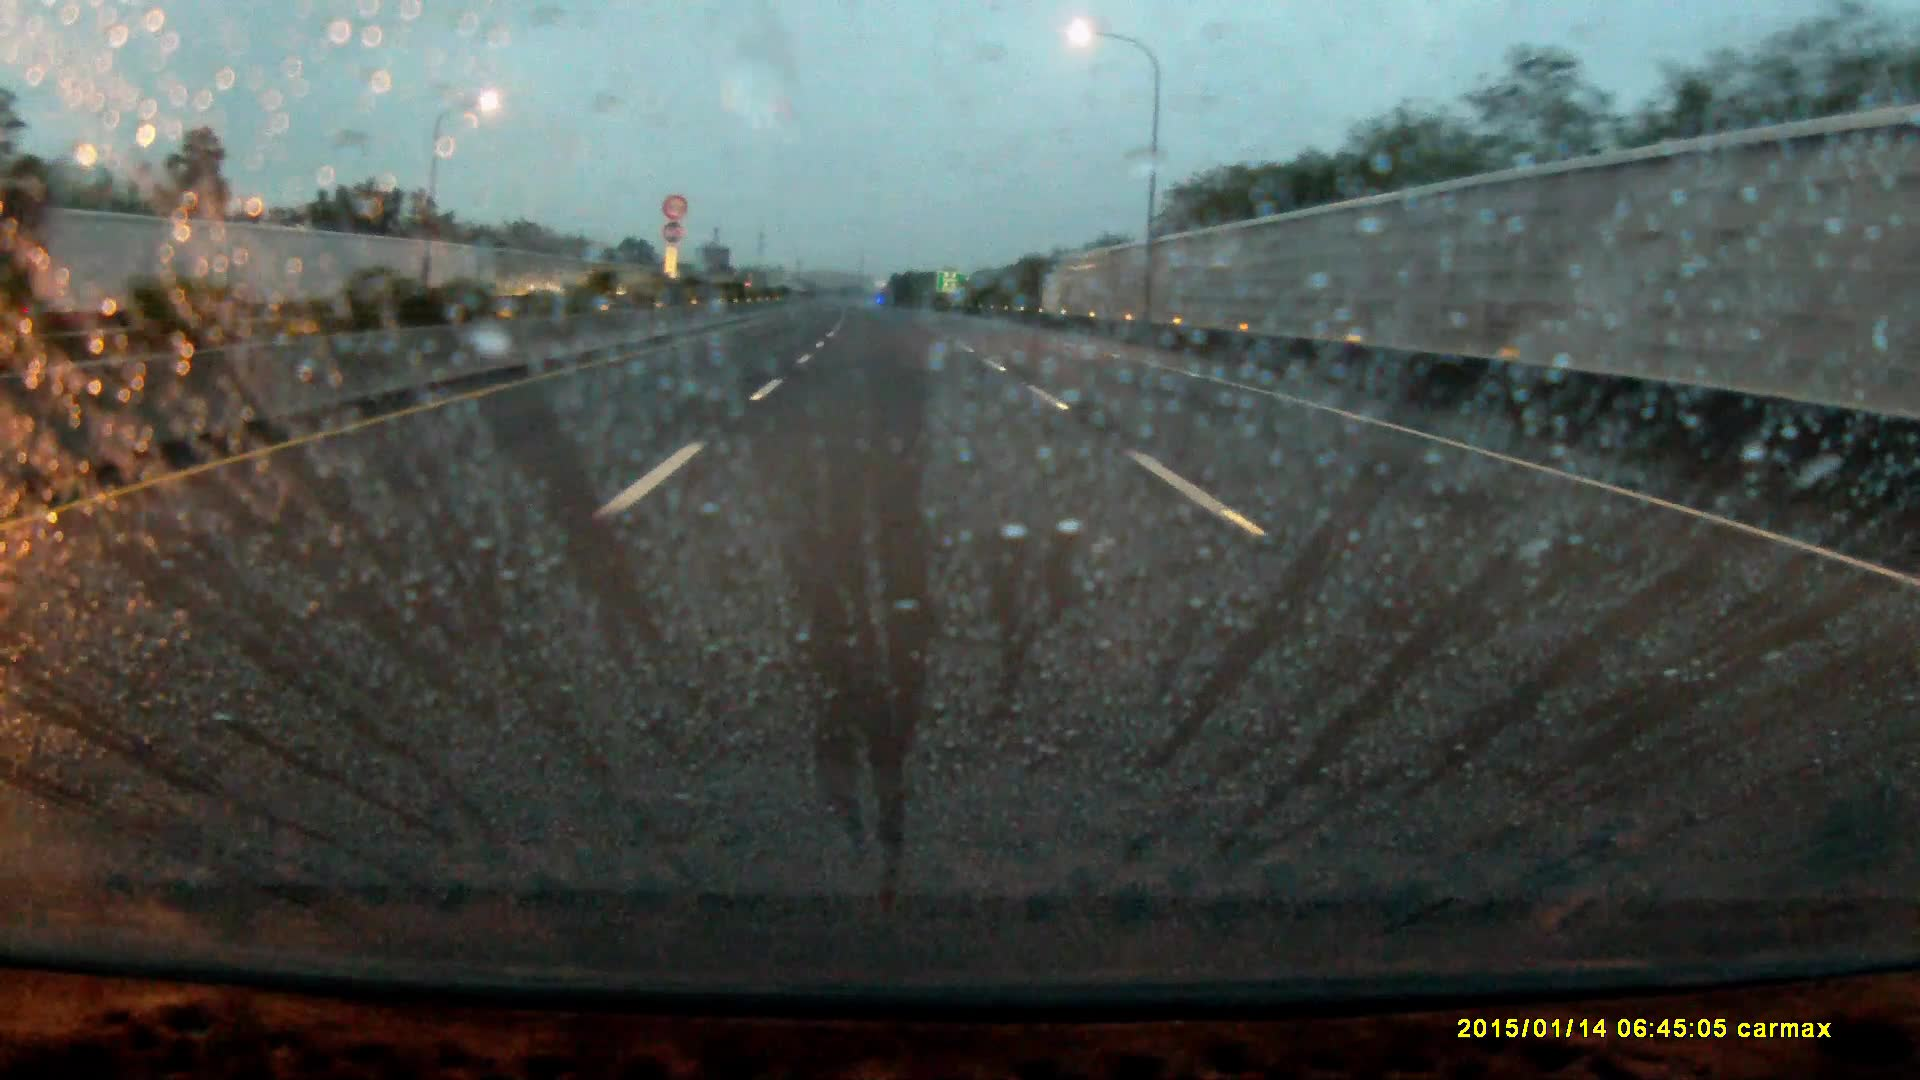vehicle: (1, 198, 40, 338)
